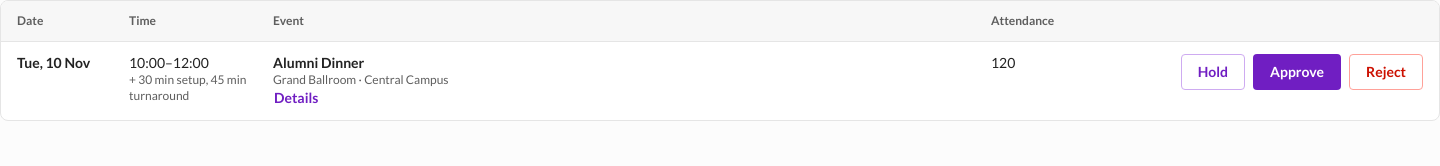
Scenario: VenueRequestRows › AC2/AC3: shows the clashing window when the action is refused, and does not report a decision
Click the button "Approve" at (1297, 72), box [1253,54,1341,90]
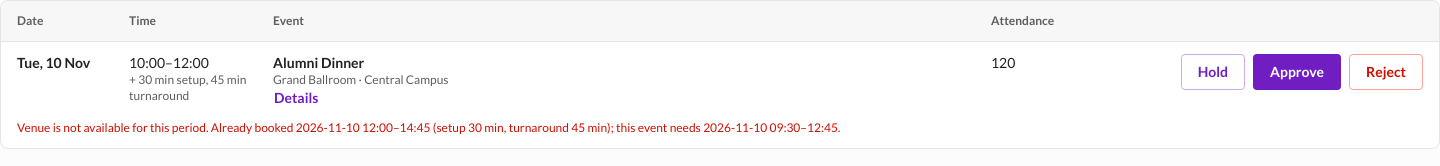
Expected: the message shows "2026-11-10 12:00–14:45", [17,120,840,135]
Expected: the message shows "2026-11-10 09:30–12:45", [17,120,840,135]
